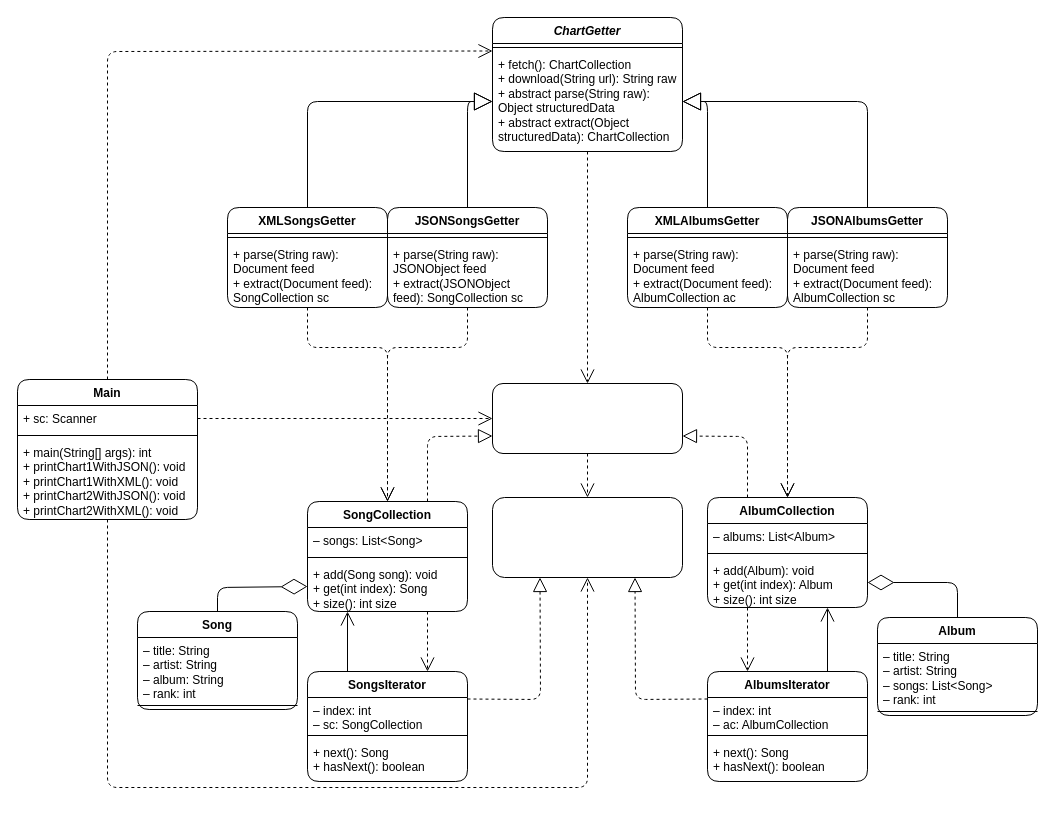
The diagram is 1055 pixels wide and 819 high, and some of its shapes have lost their labels. Here are the shapes that lost their labels. From the top down, the centre of each, then its label:
At pixel 587 418: "<<Interface>> ChartCollection + iterator(): ChartIterator".
At pixel 587 537: "<<Interface>> ChartIterator + next(): Object + hasNext(): boolean".
